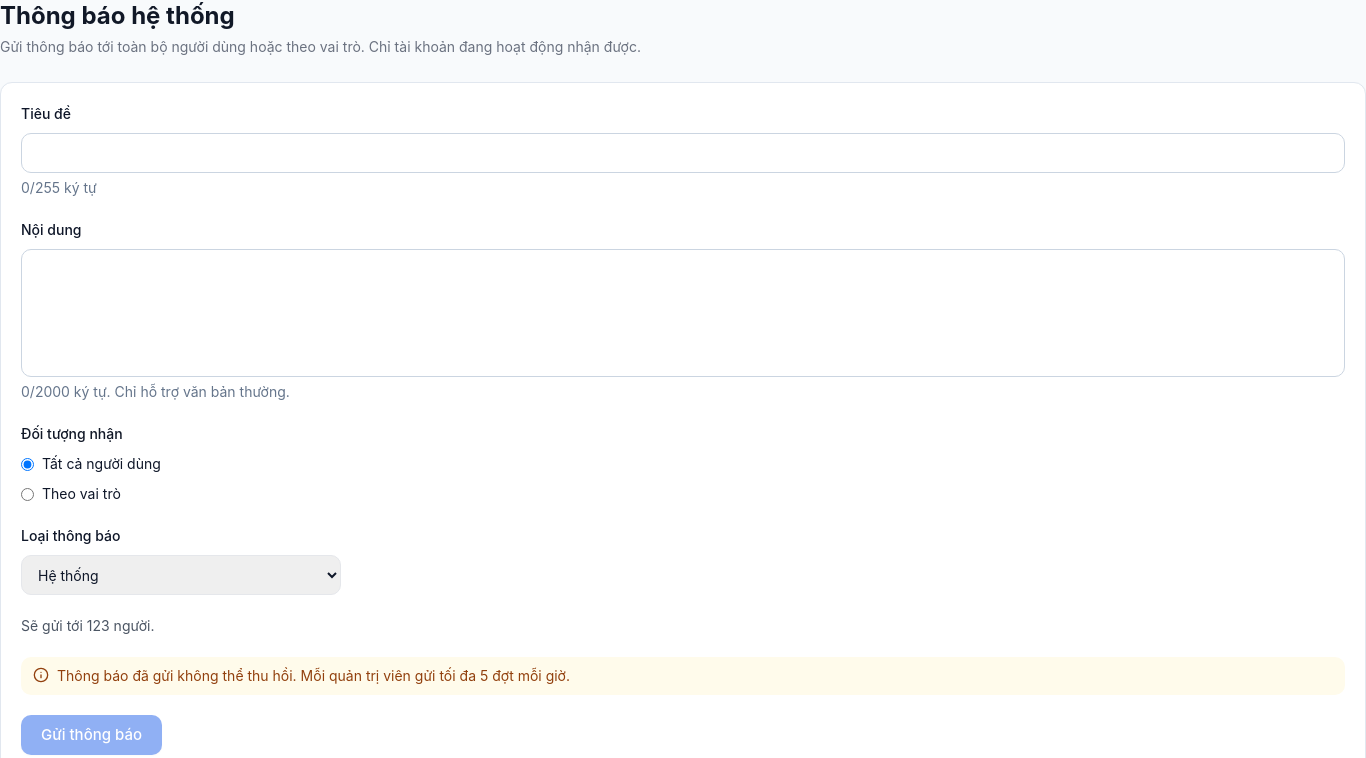
AdminBroadcastNotificationsPage › M3: số người nhận được đếm lại theo loại — preview gửi notification_type để số khớp loại sẽ gửi
Expected: the text "Sẽ gửi tới 123 người." is shown, [21,617,154,634]
Select "Khuyến mãi" in the dropdown labelled "Loại thông báo" at [181, 575], box [21,555,341,595]
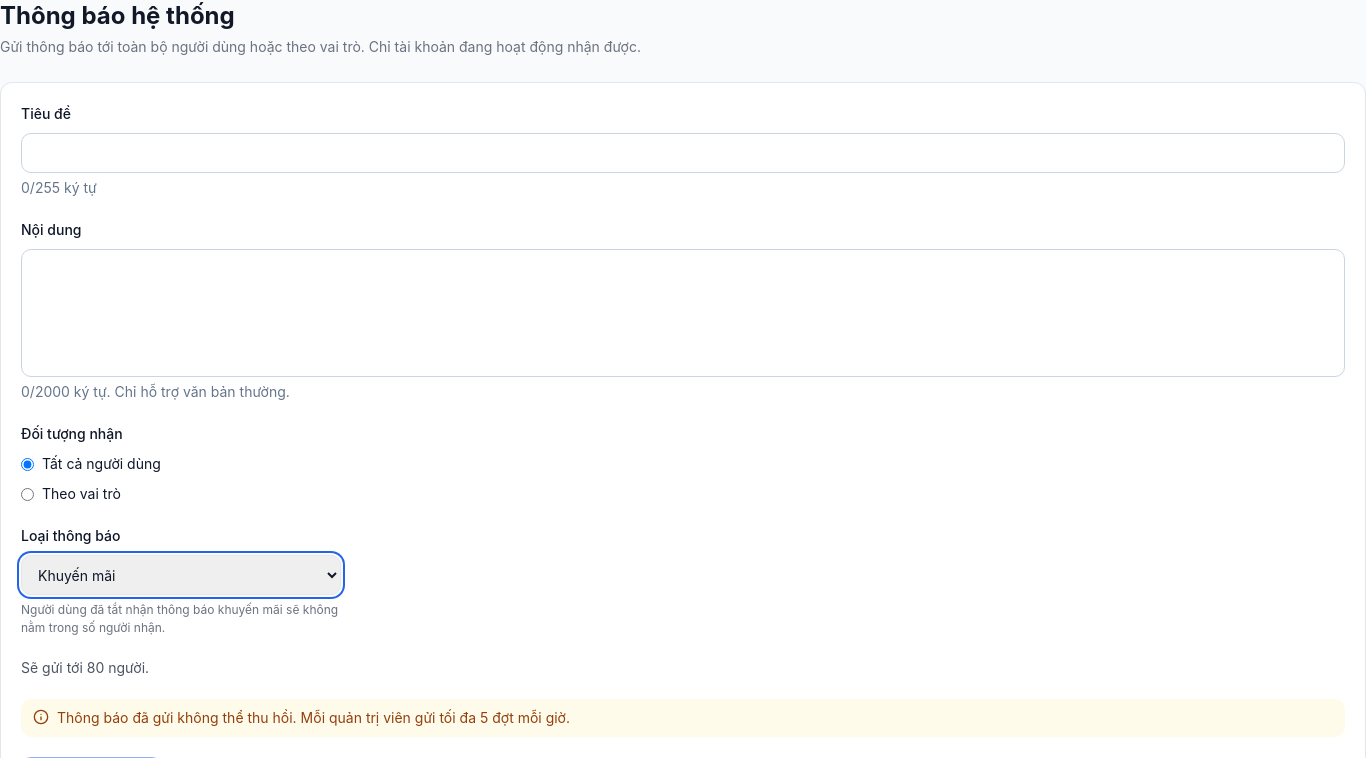
Expected: the text "Sẽ gửi tới 80 người." is shown, [21,659,149,676]
